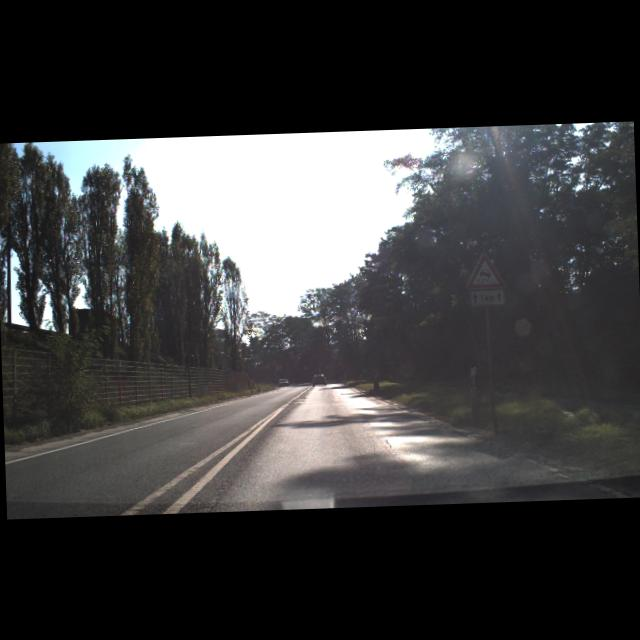danger: (464, 251, 506, 289)
